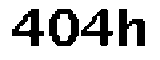0: (48, 5, 80, 51)
4: (12, 6, 46, 51), (80, 5, 112, 52)
h: (116, 5, 147, 48)
